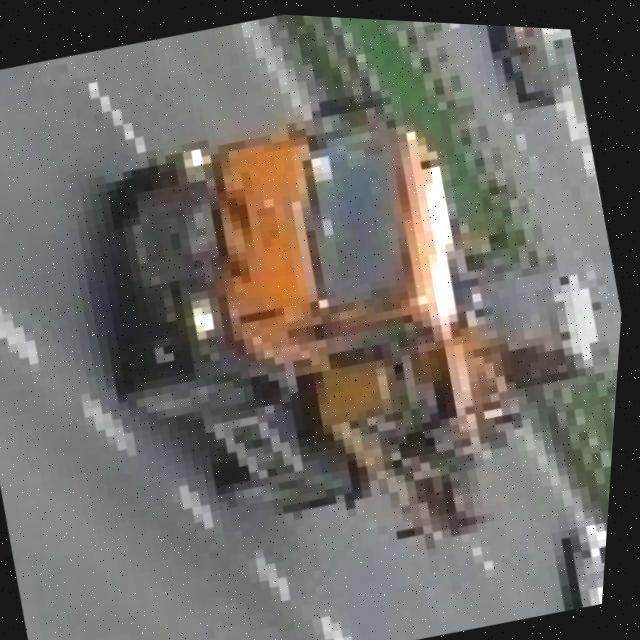truck: (57, 21, 639, 615)
